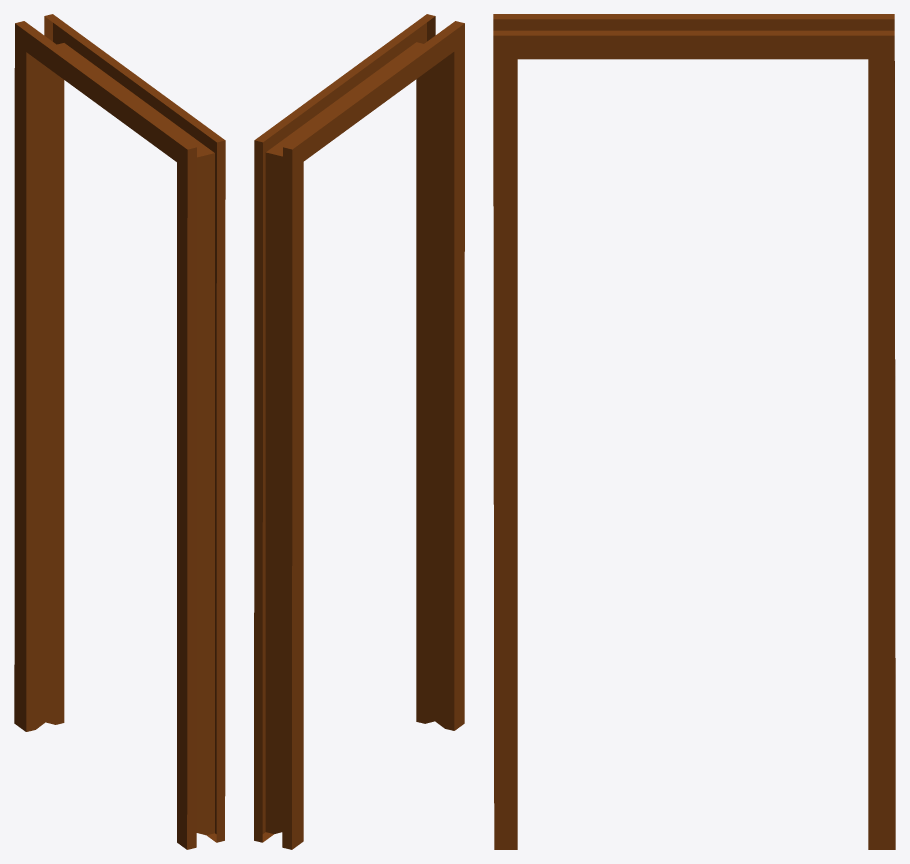
File: closet_frame_001.FBX
3 views of the same model, side by side, from view 1: azimuth 30°, elevation 25°; view 2: azimuth 150°, elevation 25°; view 3: azimuth 270°, elevation 25° (orthographic). The views are drawn at different scales.
Parts seen in each view (by area): view 1: doorFrame; view 2: doorFrame; view 3: doorFrame.
Part boxes in pixels (x1,y1,x2,y2): doorFrame: (14, 14, 225, 849); doorFrame: (254, 14, 464, 849); doorFrame: (493, 14, 895, 849).
Size of the model in its own units: 0.1195 by 2.11 by 0.9429.
